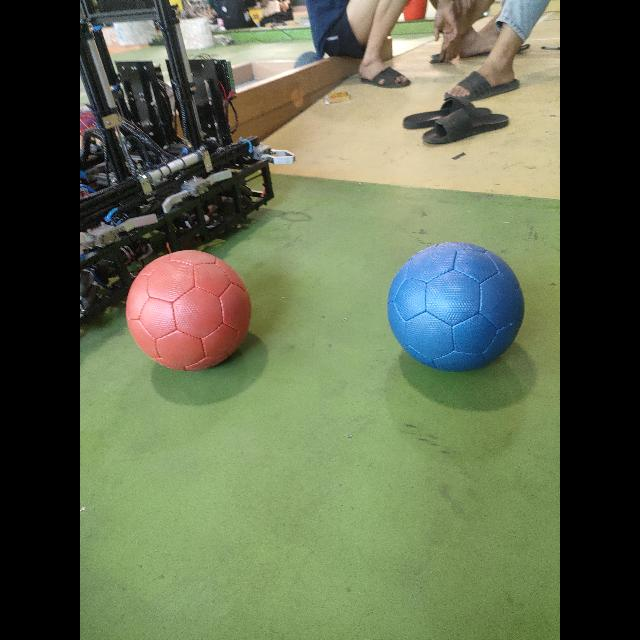B: (388, 241, 524, 371)
R: (123, 248, 253, 372)
